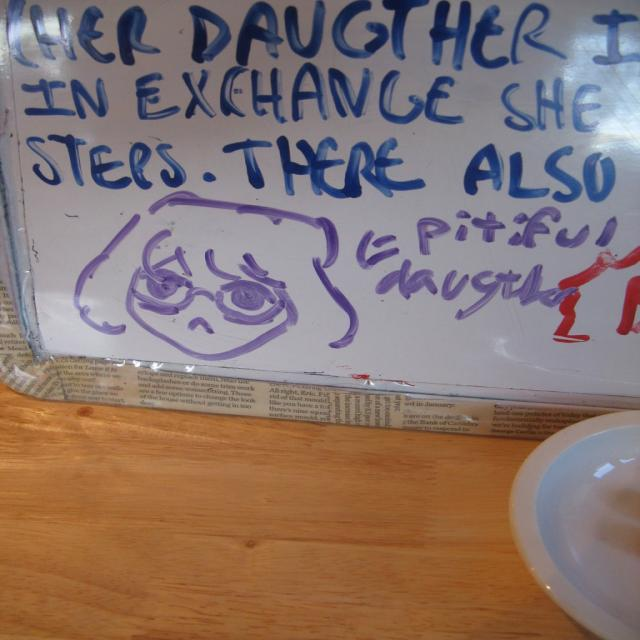non-organic waste: (513, 400, 640, 640)
